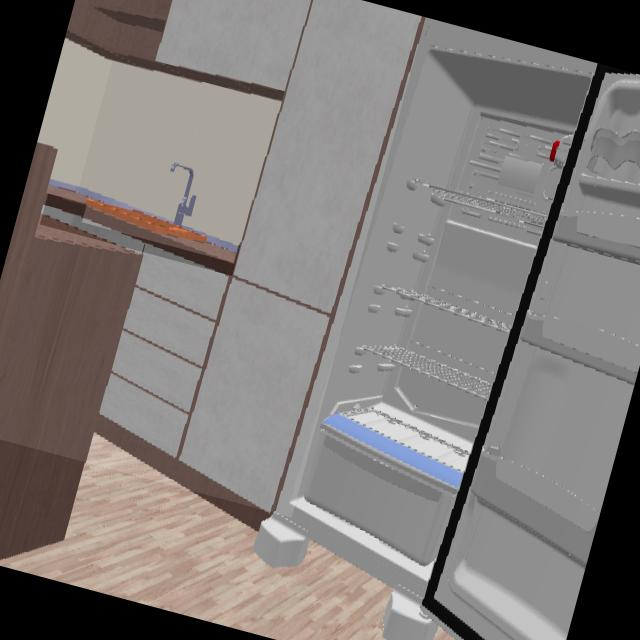cabinet: (36, 0, 424, 511)
countertop: (44, 193, 235, 275)
fridge: (254, 48, 640, 640)
sink: (87, 199, 236, 262)
